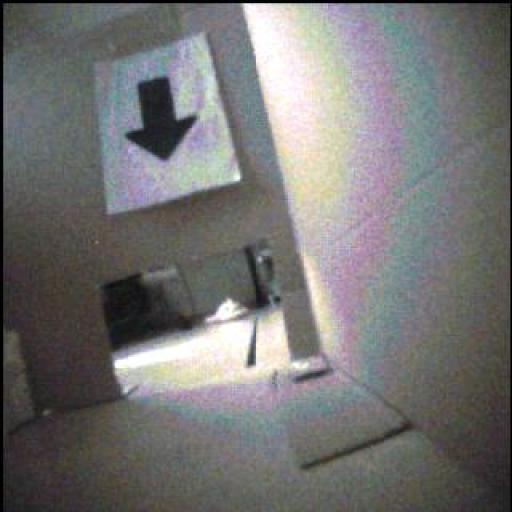arrow: (127, 78, 198, 161)
